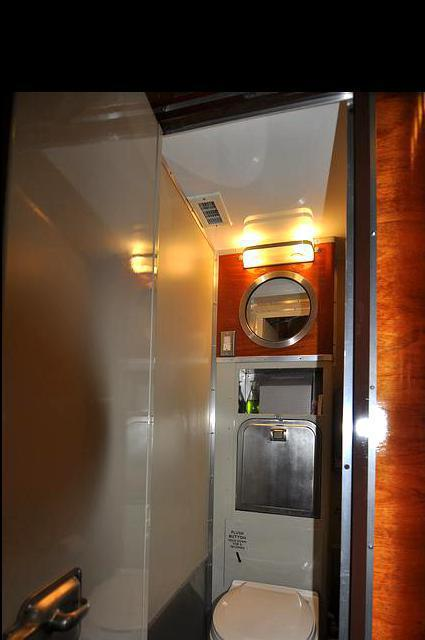Sanitario: (197, 565, 323, 640)
